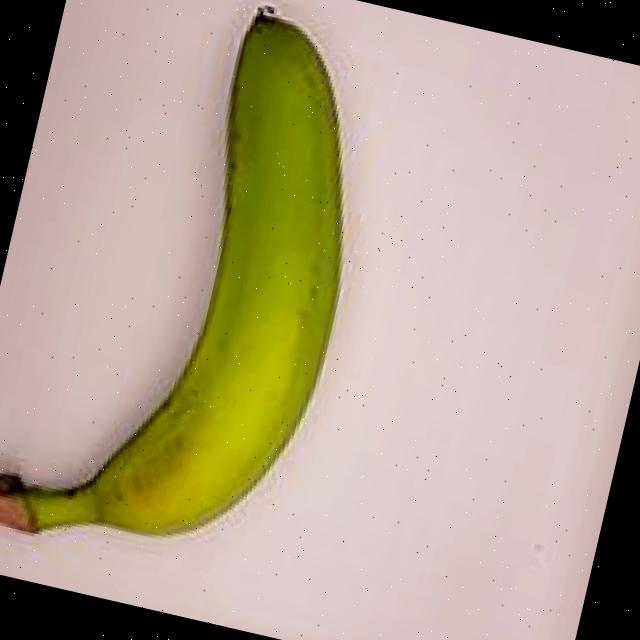Unripe: (0, 0, 422, 611)
